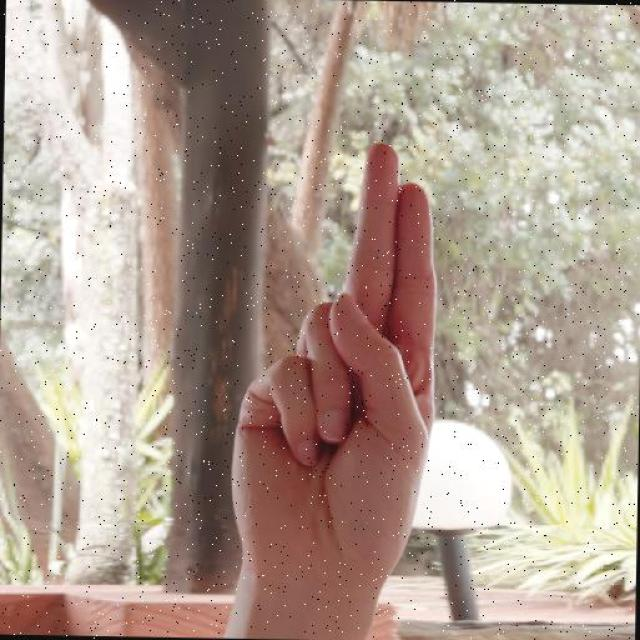U: (220, 137, 452, 587)
